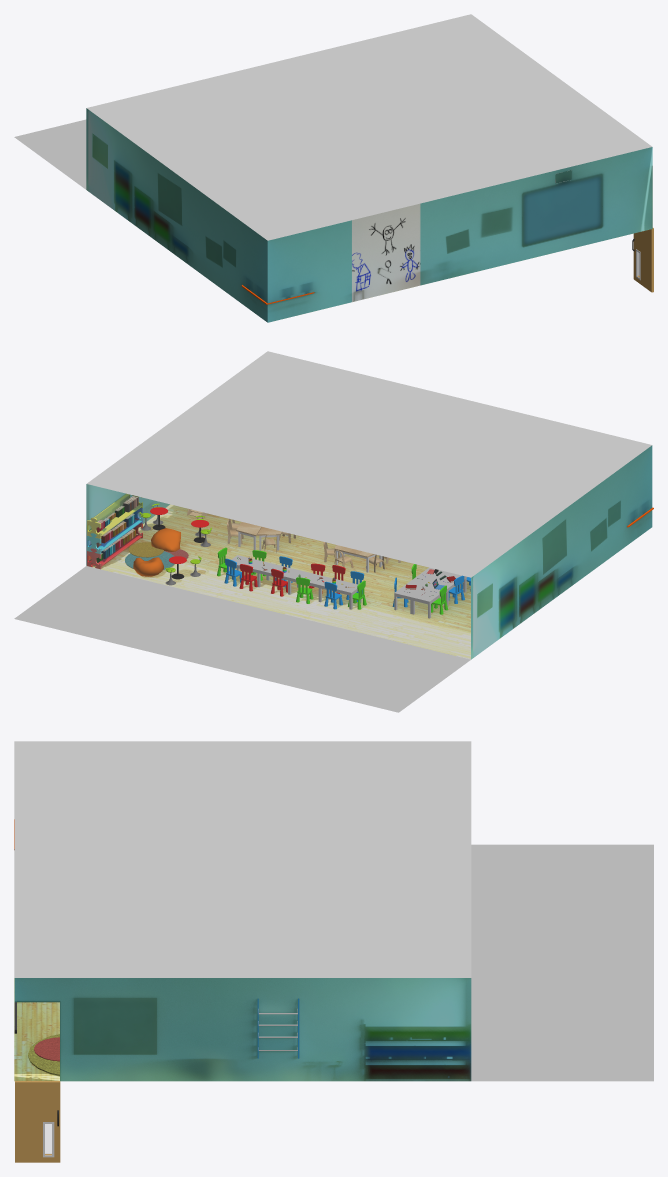
Rendered from SceneClasse.FBX.
3 views of the same model, one above another, from view 1: azimuth 30°, elevation 25°; view 2: azimuth 150°, elevation 25°; view 3: azimuth 270°, elevation 25° (orthographic). The views are drawn at different scales.
Visible parts, largest first — view 1: Plafond, Murs, dehors, Porte; view 2: Plafond, vitre, dehors, Sol, Murs, Biblio, Table_Art, Table_General, Tapis, Poof2; view 3: Plafond, Murs, dehors, Porte, Sol, Tapis.
Boxes of the visible parts, x1,y1,x2,y2 form: Plafond: (87, 14, 652, 240); Murs: (86, 108, 652, 322); dehors: (14, 119, 86, 189); Porte: (632, 228, 653, 292); Plafond: (87, 351, 651, 577); vitre: (86, 484, 470, 659); dehors: (14, 566, 470, 712); Sol: (92, 504, 470, 659); Murs: (86, 445, 652, 659); Biblio: (87, 493, 142, 569); Table_Art: (228, 555, 361, 609); Table_General: (394, 567, 467, 618); Tapis: (125, 542, 188, 569); Poof2: (151, 528, 180, 551); Plafond: (14, 741, 471, 977); Murs: (14, 978, 471, 1081); dehors: (471, 844, 653, 1081); Porte: (15, 1081, 60, 1162); Sol: (14, 978, 59, 1081); Tapis: (28, 1034, 59, 1075).
Bounding box in the file's own units: 628 × 224 × 709.
